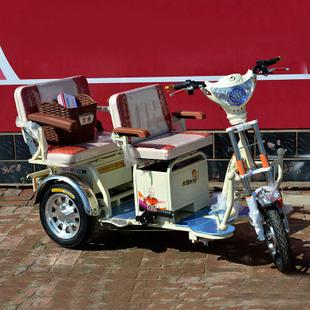empty: (9, 55, 307, 276)
